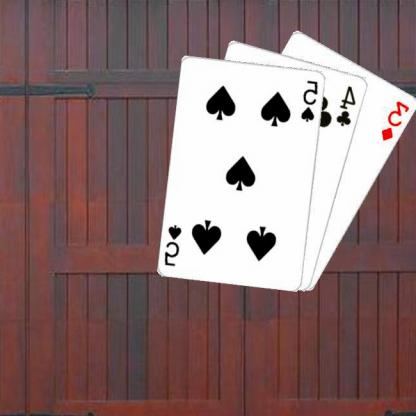3D: (380, 98, 414, 142)
4C: (335, 82, 359, 127)
5S: (300, 77, 321, 123), (164, 221, 185, 267)
